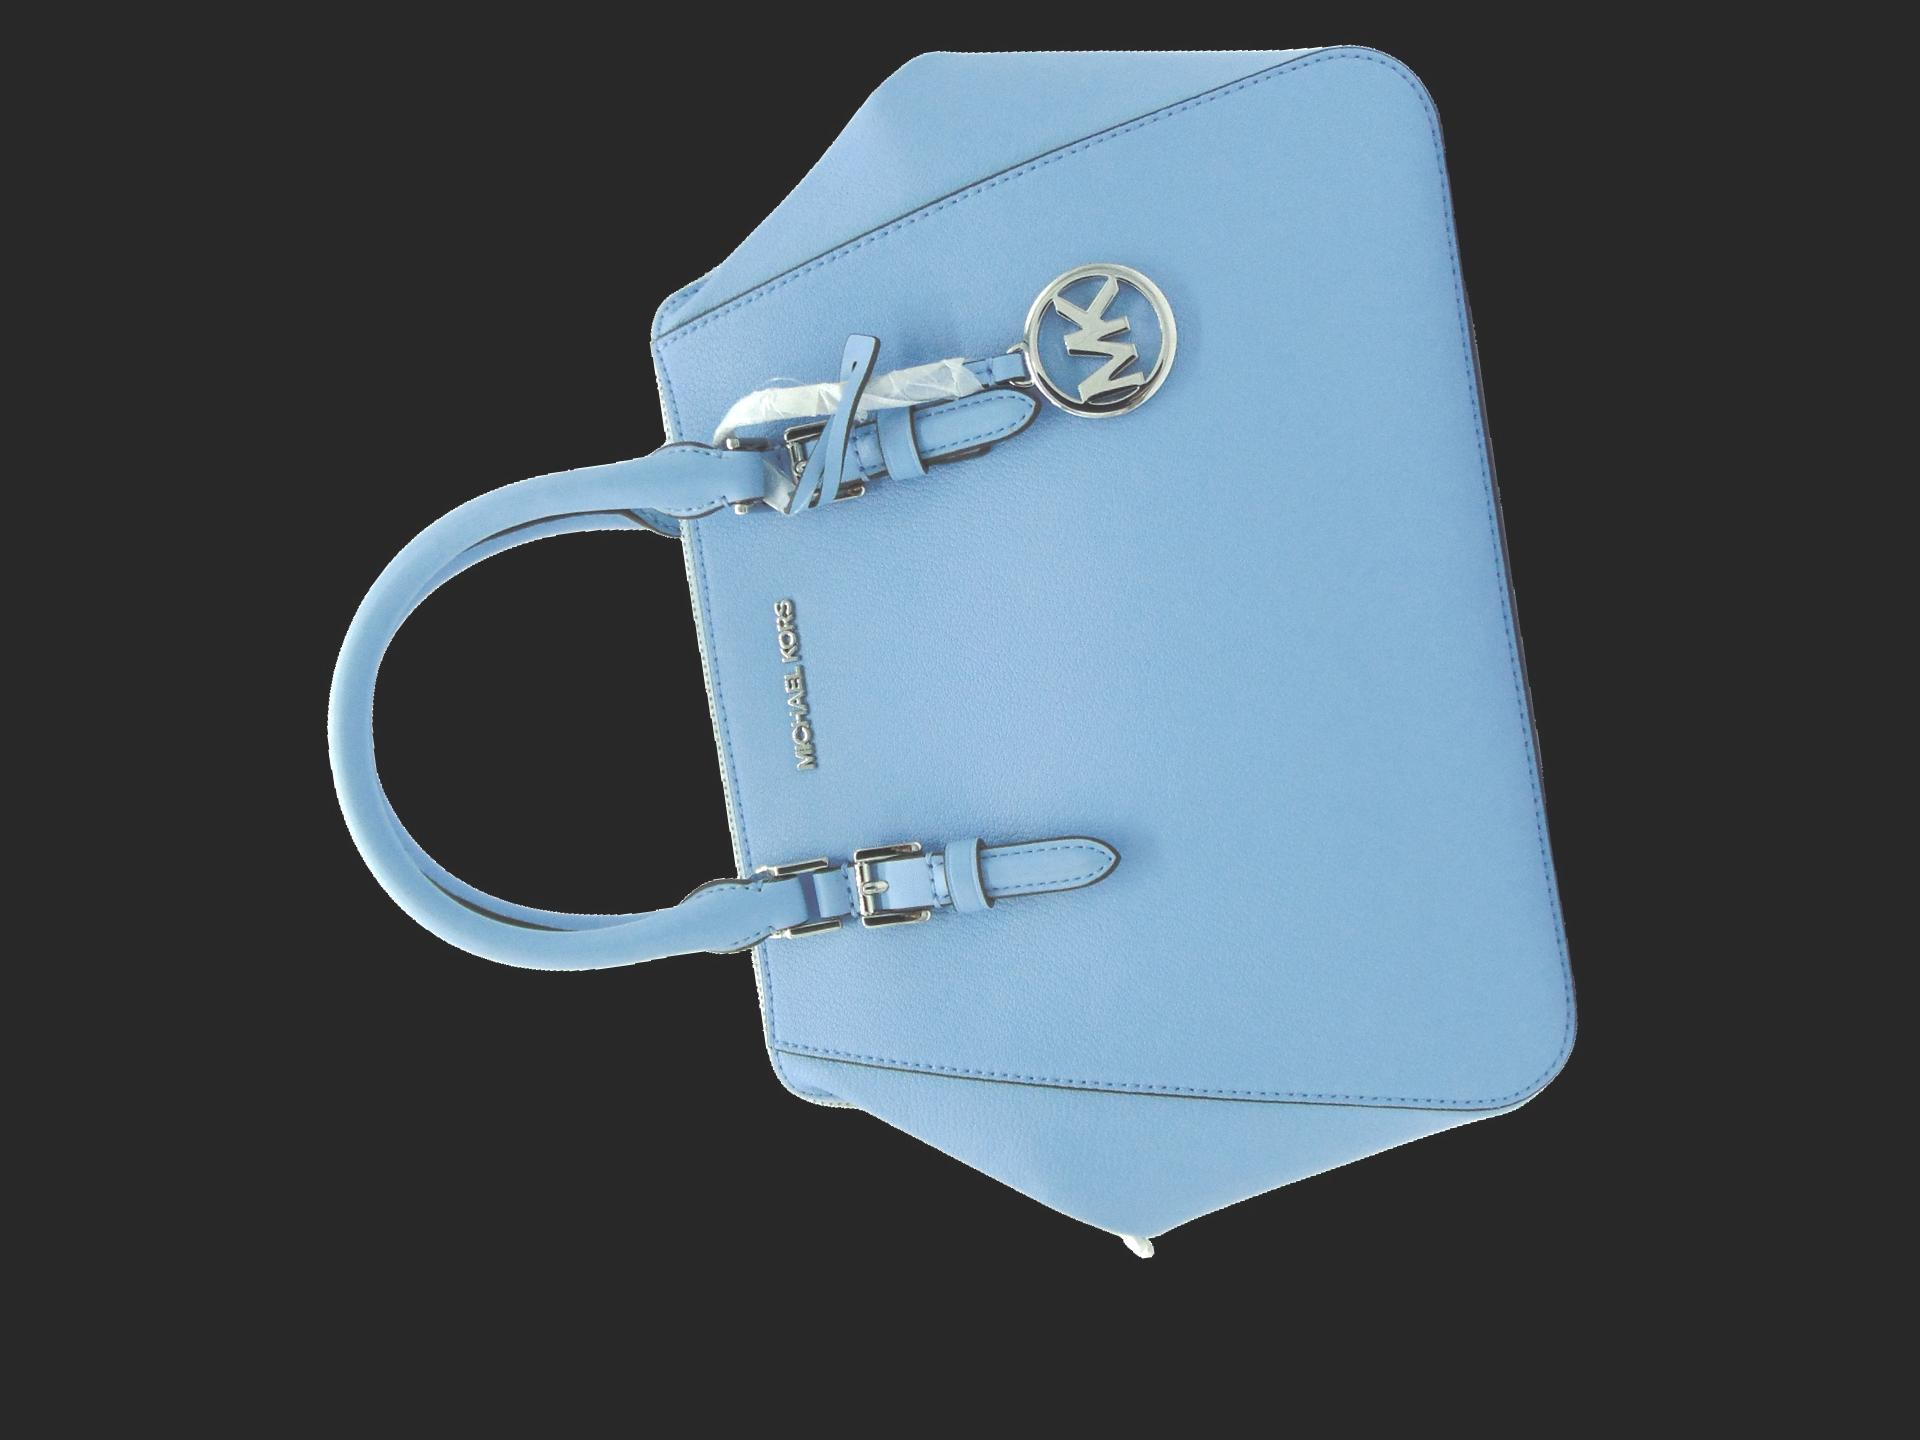MICHAEL-KORS: (771, 597, 816, 770)
